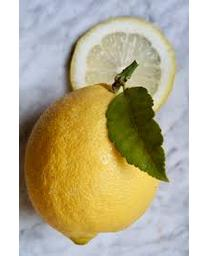lemon: (24, 84, 157, 245), (68, 17, 178, 115)
